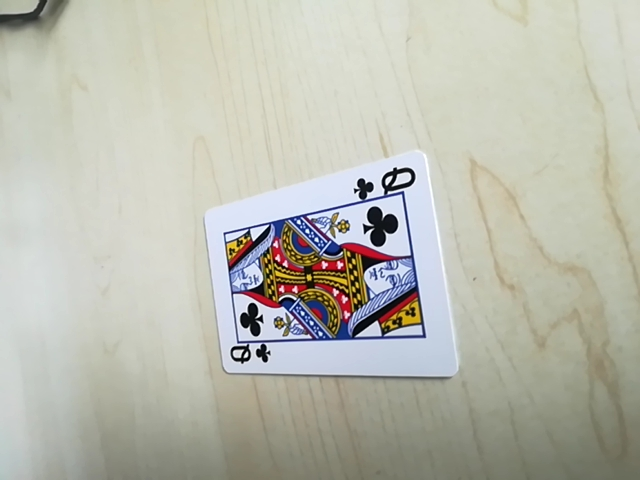mh q: (356, 161, 423, 196), (221, 340, 274, 371)
